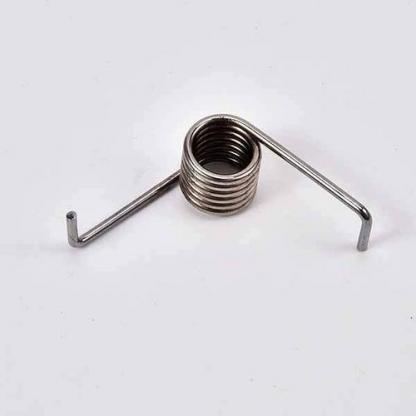FOD: (64, 110, 374, 253)
